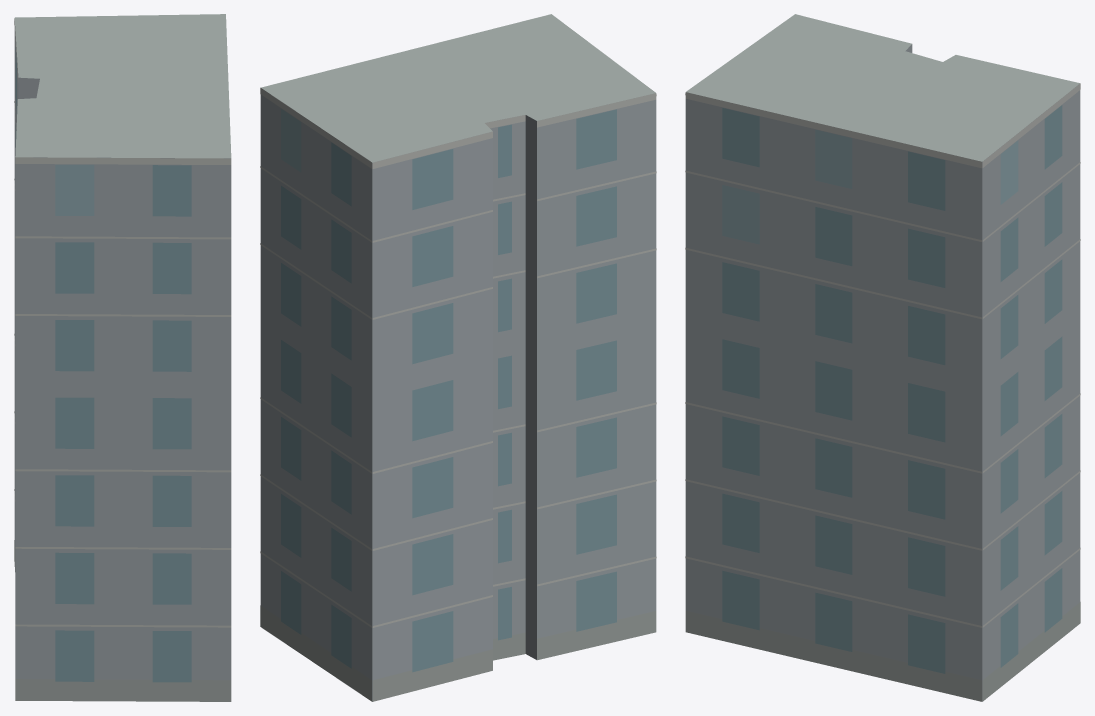
Rendered from survey-upis-32739689.glb.
3 renders of one model, left to right at view 1: azimuth 30°, elevation 25°; view 2: azimuth 150°, elevation 25°; view 3: azimuth 270°, elevation 25°, orthographic.
Parts seen in each view (by area): view 1: survey-upis-32739689.tmp; view 2: survey-upis-32739689.tmp; view 3: survey-upis-32739689.tmp.
Boxes of the visible parts, box(x1,y1,x2,y2) form: survey-upis-32739689.tmp: box(14, 14, 231, 701); survey-upis-32739689.tmp: box(260, 14, 656, 701); survey-upis-32739689.tmp: box(685, 14, 1080, 701).
Size of the model in its own units: 11.7 by 19.9 by 13.21.
